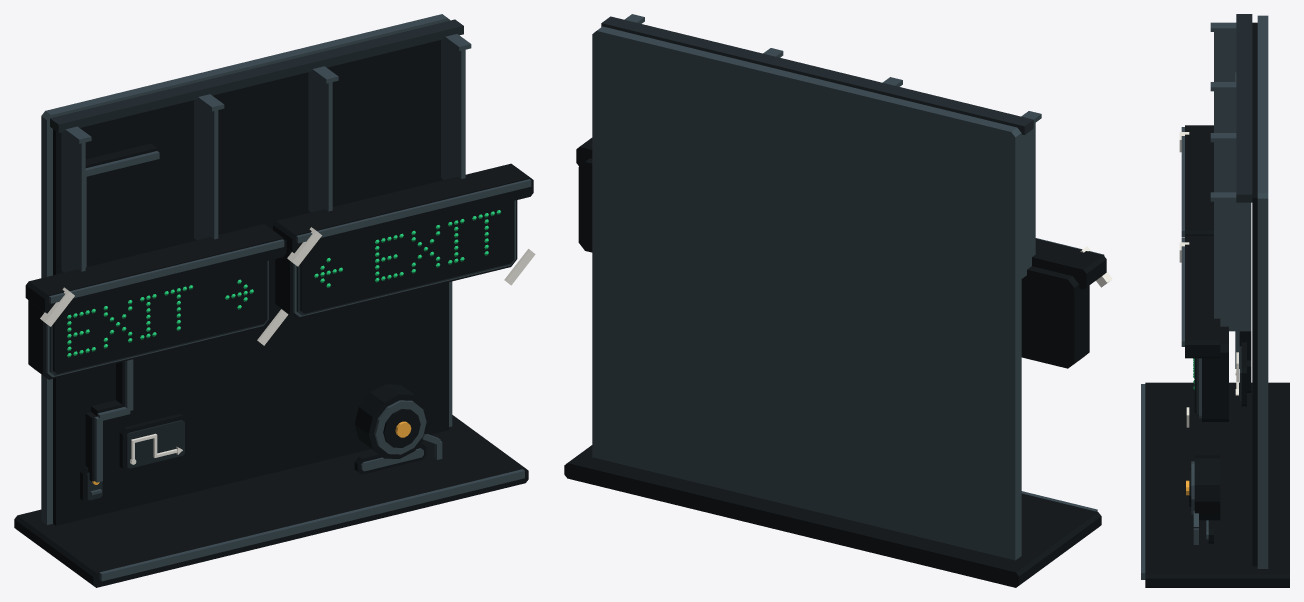
The picture shows the model from 3 angles, left to right: view 1: azimuth 30°, elevation 25°; view 2: azimuth 150°, elevation 25°; view 3: azimuth 270°, elevation 25°; orthographic projection. The views are drawn at different scales.
Visible parts, largest first — view 1: Exit Liquidity sign; view 2: Exit Liquidity sign; view 3: Exit Liquidity sign.
Boxes of the visible parts, x1,y1,x2,y2 form: Exit Liquidity sign: [14, 14, 535, 587]; Exit Liquidity sign: [564, 14, 1112, 587]; Exit Liquidity sign: [1141, 14, 1289, 587].
Size of the model in its own units: 1.22 by 1 by 0.3475.
